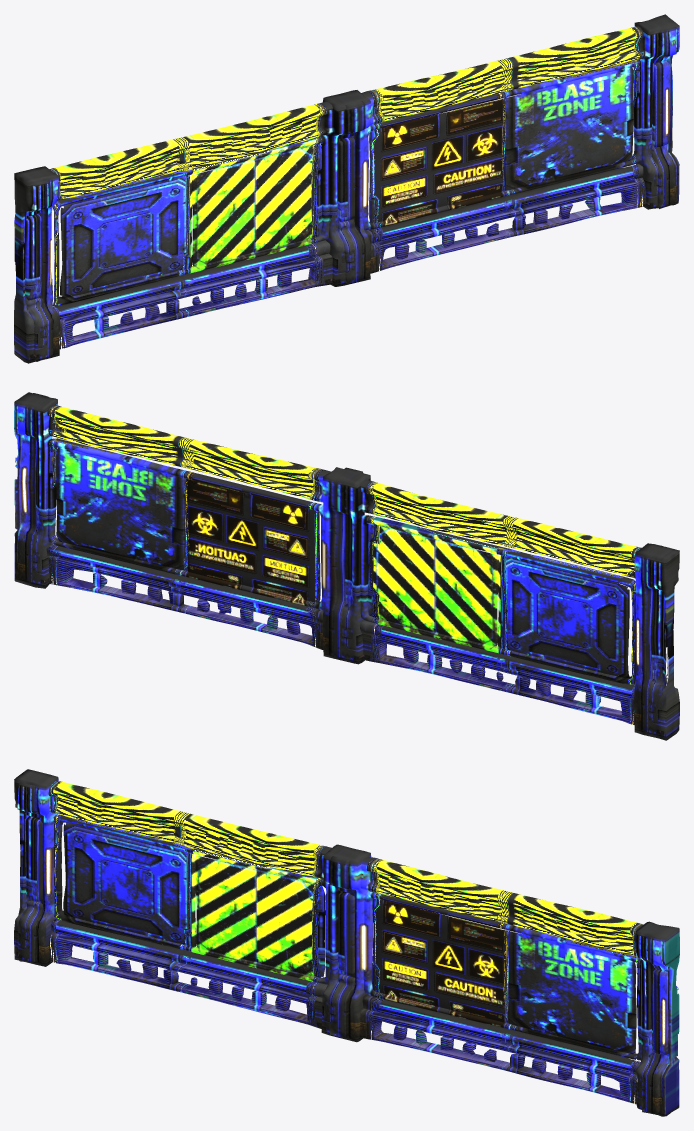
File: wall_hazard.glb
3 views of the same model, one above another, from view 1: azimuth 30°, elevation 25°; view 2: azimuth 150°, elevation 25°; view 3: azimuth 330°, elevation 25° (orthographic).
Parts seen in each view (by area): view 1: Wall_Hazard; view 2: Wall_Hazard; view 3: Wall_Hazard.
Boxes of the visible parts, x1,y1,x2,y2 form: Wall_Hazard: [14, 14, 679, 363]; Wall_Hazard: [14, 392, 679, 740]; Wall_Hazard: [14, 769, 679, 1116].
Bounding box in the file's own units: 1 × 0.2672 × 0.045.
1 material, 1 textured.
